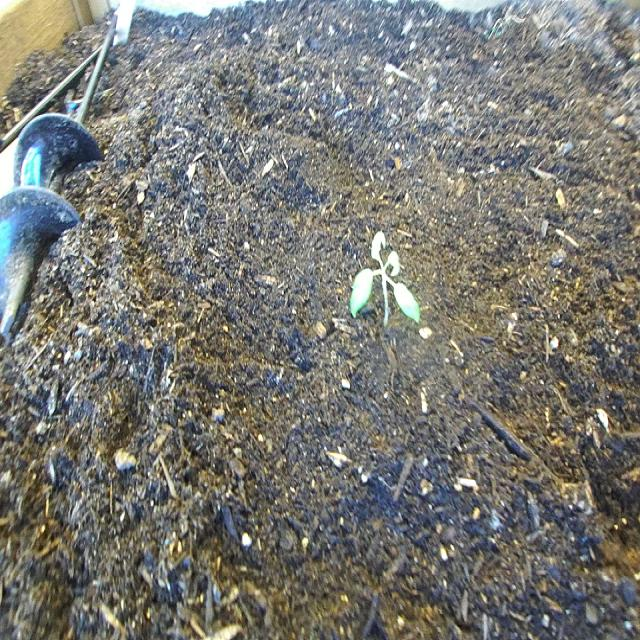Healthy: (341, 208, 433, 359)
